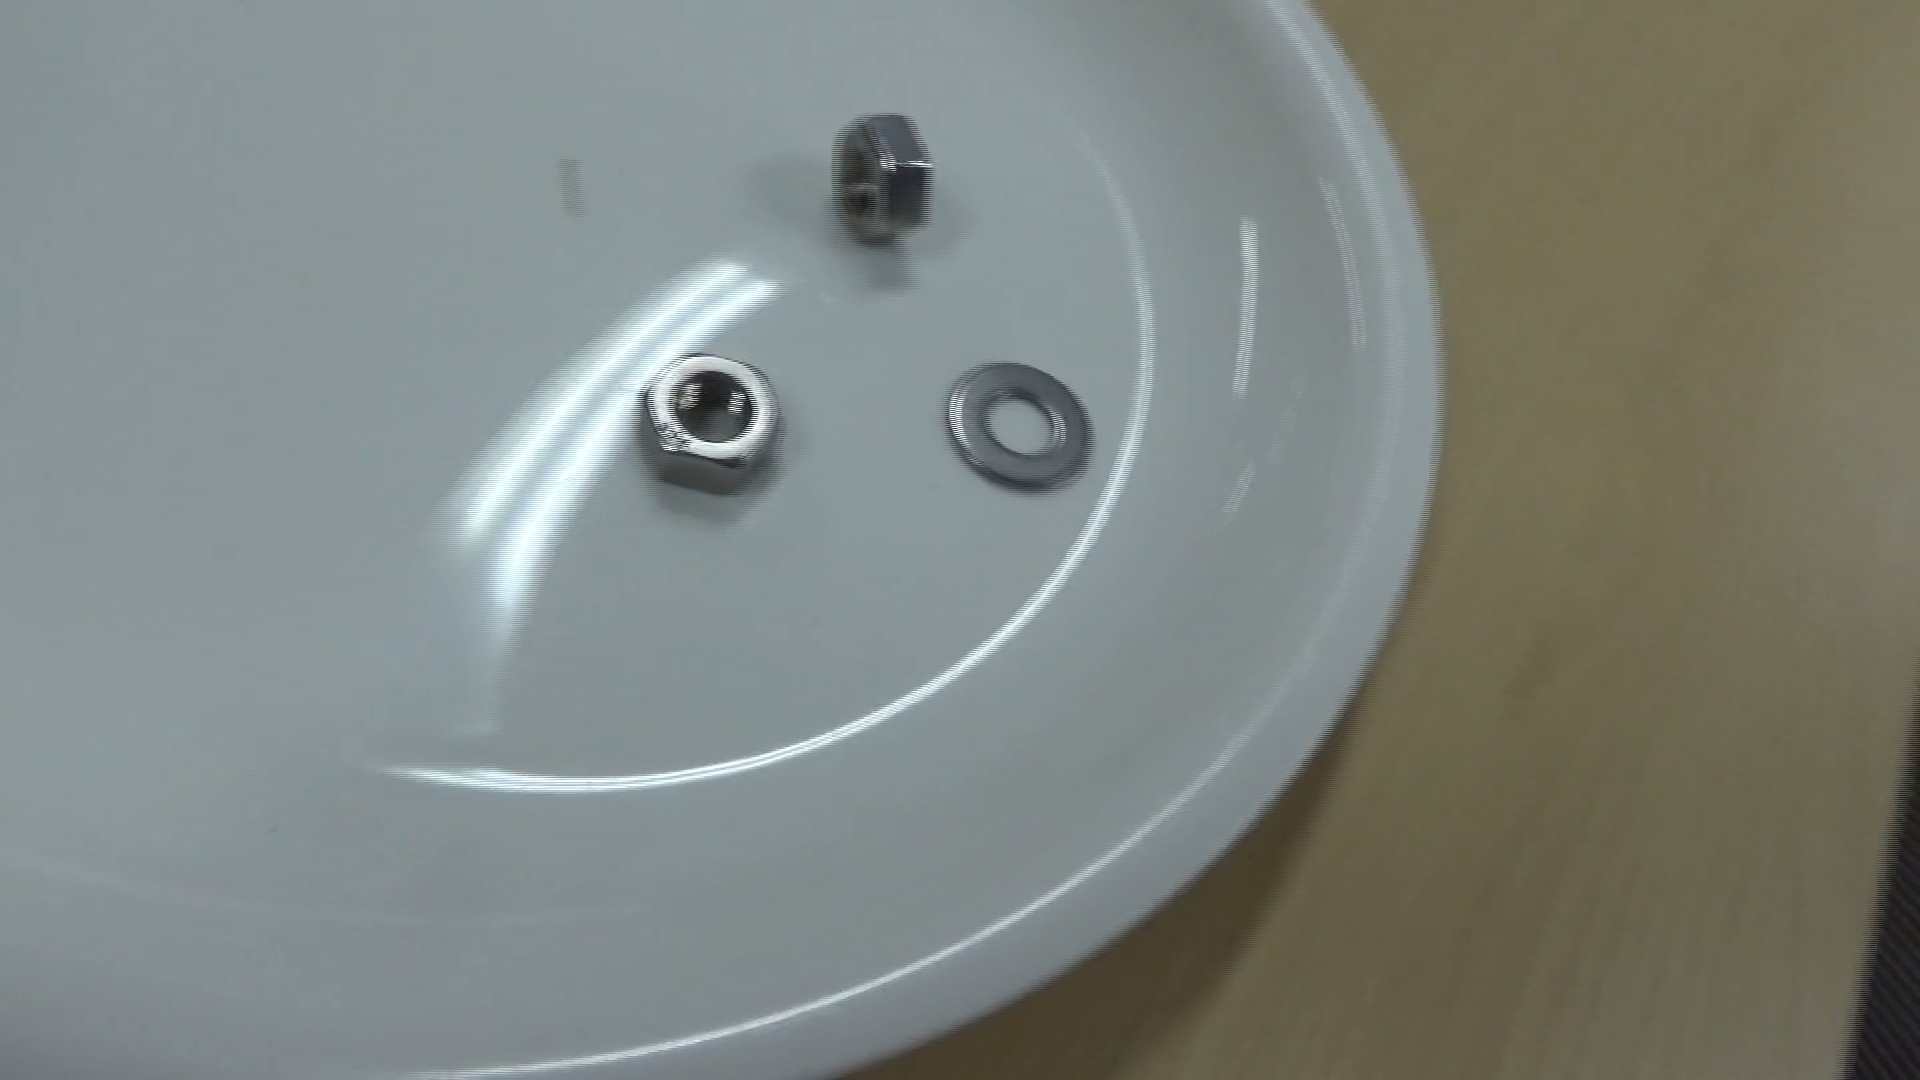nut: (632, 349, 781, 495), (829, 105, 935, 251)
washer: (942, 353, 1092, 495)
